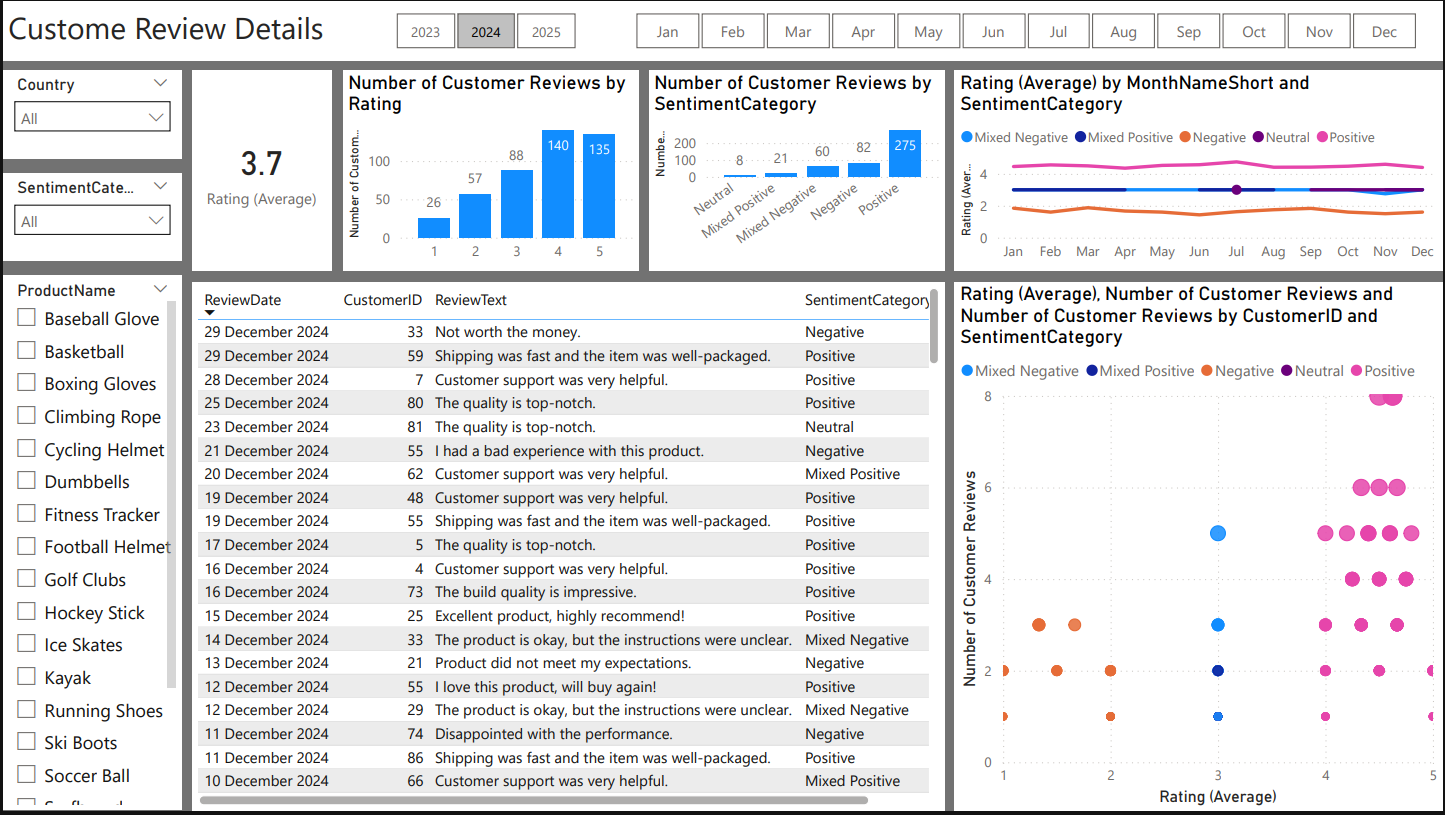

Layout of this report page (visuals, bound fields, positions):
{"tool":"powerbi","page":{"name":"Customer Review Details","canvas":[1280,720],"ordinal":3},"visuals":[{"type":"textbox","box":[0,0,1280,52.6],"z":0},{"type":"slicer","fields":{"Values":["dim_products.ProductName"]},"box":[0,244.2,159.3,475.3],"z":1000},{"type":"card","fields":{"Values":["_Calculations.Rating (Average)"]},"box":[168.5,61.9,123.8,178.5],"z":2000},{"type":"slicer","fields":{"Values":["Calendar.MonthNameShort"]},"box":[536.8,4.1,743.2,44.4],"z":3000},{"type":"lineChart","fields":{"Category":["Calendar.MonthNameShort"],"Y":["_Calculations.Rating (Average)"],"Series":["fact_customer_reviews_with_sentiment.SentimentCategory"]},"box":[846.2,62,434.1,178.4],"z":4000},{"type":"slicer","fields":{"Values":["Calendar.Year"]},"box":[324.1,4.1,208.5,44.4],"z":5000},{"type":"tableEx","fields":{"Values":["fact_customer_reviews_with_sentiment.ReviewDate","fact_customer_reviews_with_sentiment.CustomerID","fact_customer_reviews_with_sentiment.ReviewText","fact_customer_reviews_with_sentiment.SentimentCategory","Sum(fact_customer_reviews_with_sentiment.Rating)"]},"box":[168.5,249.5,668.4,470.8],"z":6000},{"type":"columnChart","fields":{"Category":["fact_customer_reviews_with_sentiment.Rating"],"Y":["_Calculations.Number of Customer Reviews"]},"box":[302.4,62,262.4,178.4],"z":7000},{"type":"columnChart","fields":{"Category":["fact_customer_reviews_with_sentiment.SentimentCategory"],"Y":["_Calculations.Number of Customer Reviews"]},"box":[574.3,62,262.4,178.4],"z":8000},{"type":"slicer","fields":{"Values":["dim_customers.Country"]},"box":[0,61.4,159.3,78.3],"z":9000},{"type":"slicer","fields":{"Values":["fact_customer_reviews_with_sentiment.SentimentCategory"]},"box":[0,152.8,159.3,78.3],"z":10000},{"type":"scatterChart","fields":{"Category":["dim_customers.CustomerID"],"Series":["fact_customer_reviews_with_sentiment.SentimentCategory"],"X":["_Calculations.Rating (Average)"],"Y":["_Calculations.Number of Customer Reviews"],"Size":["_Calculations.Number of Customer Reviews"]},"box":[846,249.5,434.4,470.8],"z":11000}]}

Visuals, with their boxes in screenshot pixels (x1, y1, x2, y2), scaled from the page's 1280x720 canvas onto the 1445x815 screenshot:
textbox: 0,0,1444,60
slicer - dim_products.ProductName: 0,276,180,814
card - _Calculations.Rating (Average): 190,70,330,272
slicer - Calendar.MonthNameShort: 606,5,1444,55
lineChart - Calendar.MonthNameShort x _Calculations.Rating (Average): 955,70,1444,272
slicer - Calendar.Year: 366,5,601,55
tableEx - fact_customer_reviews_with_sentiment.ReviewDate x fact_customer_reviews_with_sentiment.CustomerID: 190,282,945,814
columnChart - fact_customer_reviews_with_sentiment.Rating x _Calculations.Number of Customer Reviews: 341,70,638,272
columnChart - fact_customer_reviews_with_sentiment.SentimentCategory x _Calculations.Number of Customer Reviews: 648,70,945,272
slicer - dim_customers.Country: 0,70,180,158
slicer - fact_customer_reviews_with_sentiment.SentimentCategory: 0,173,180,262
scatterChart - dim_customers.CustomerID x fact_customer_reviews_with_sentiment.SentimentCategory: 955,282,1444,814
